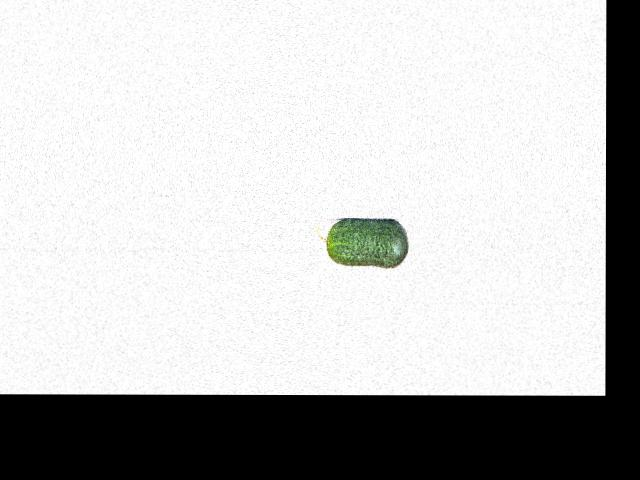cucumber: (316, 218, 408, 267)
